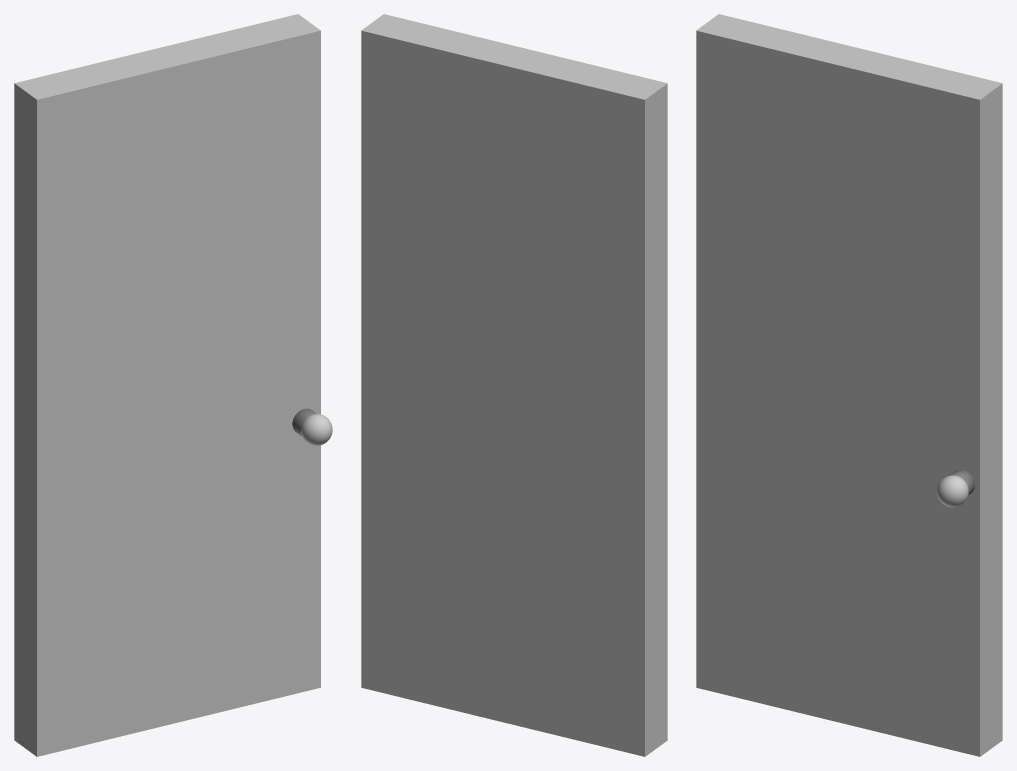
The model's file is door.fbx.
The picture shows the model from 3 angles, left to right: view 1: azimuth 30°, elevation 25°; view 2: azimuth 150°, elevation 25°; view 3: azimuth 330°, elevation 25°; orthographic projection.
Parts seen in each view (by area): view 1: Box001, Sphere001; view 2: Box001; view 3: Box001, Sphere001.
Boxes of the visible parts, x1,y1,x2,y2 form: Box001: [14, 14, 320, 756]; Sphere001: [301, 413, 332, 445]; Box001: [361, 14, 667, 756]; Box001: [696, 14, 1002, 756]; Sphere001: [937, 475, 968, 507].
Size of the model in its own units: 87.87 by 194 by 22.6.
